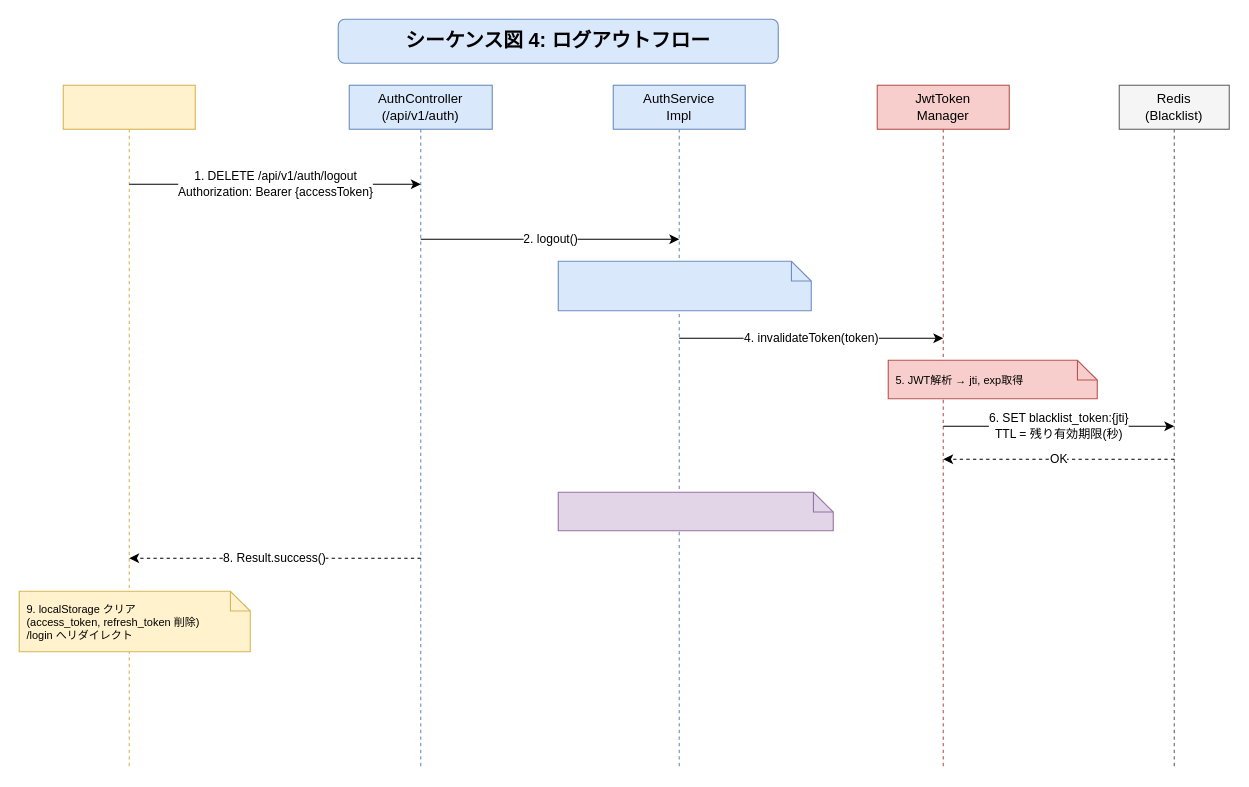
Image size: 1249x787. Some labels were removed from this diagram. The box of each missing label's shape, as (x1, y1, x2, y2) in pixels:
3. SecurityUtils.getTokenFromRequest() → Bearer プレフィックス除去: (557, 260, 811, 311)
7. SecurityContextHolder.clearContext(): (557, 491, 833, 531)
Frontend (Vue): (62, 84, 195, 767)
